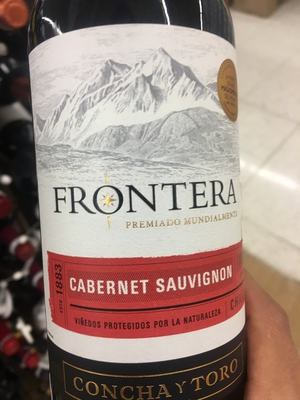frontera cabernet sauvignon: (29, 12, 254, 398)
